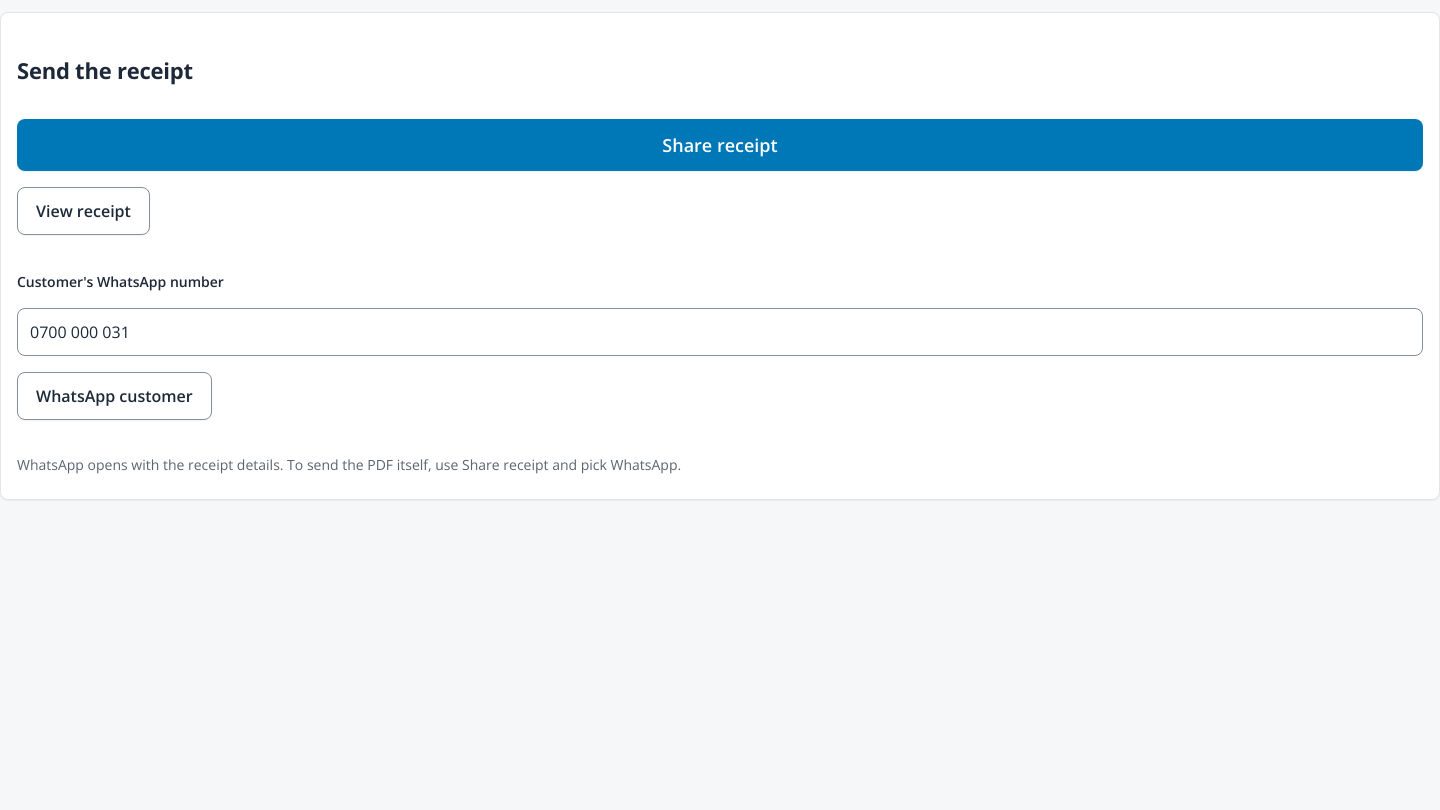
Test case: Share receipt › offers the PDF when the printed receipt request fails
Click the button "View receipt" at (83, 211), box [17, 187, 150, 235]
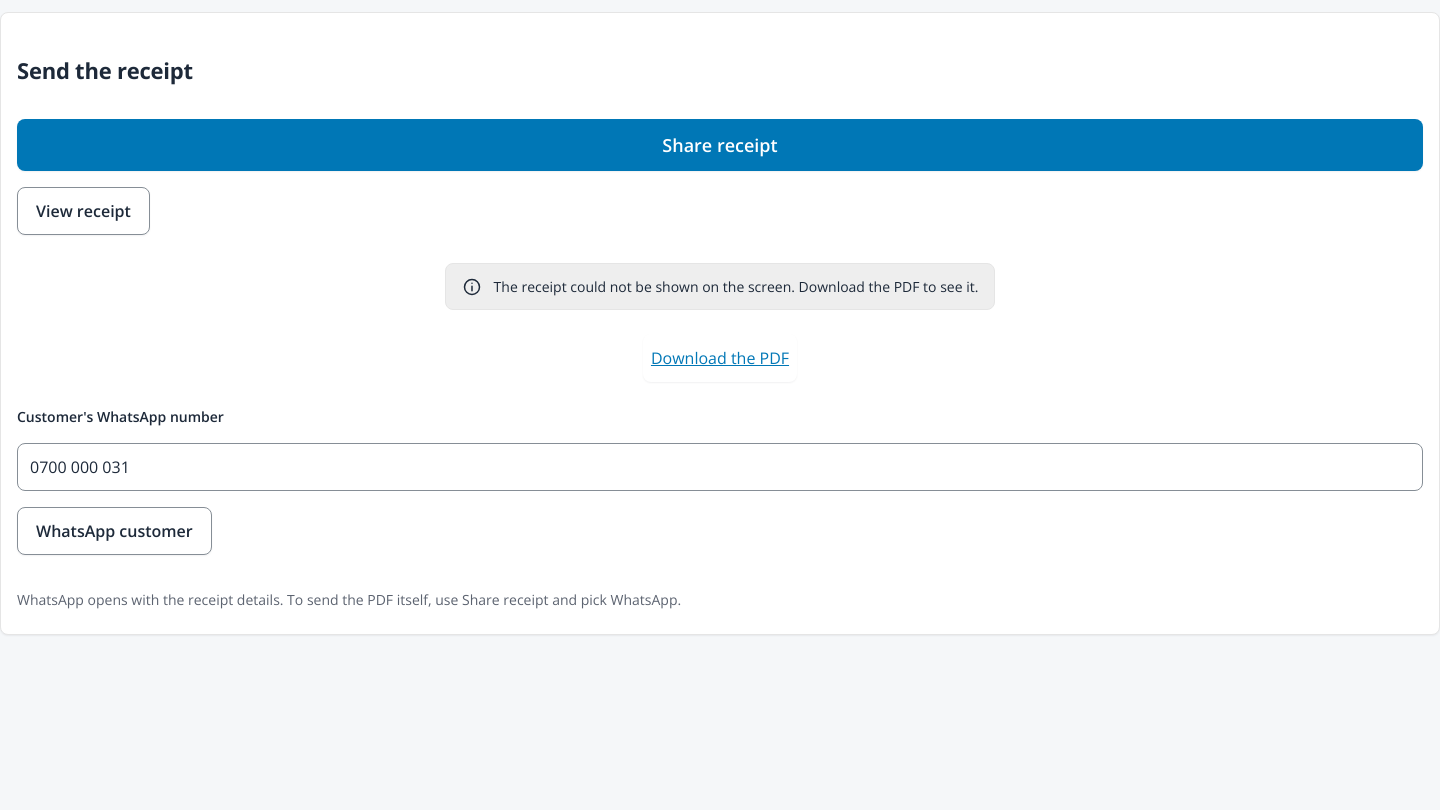
Result: the text "The receipt could not be shown on the screen. Download the PDF to see it." is shown at [445, 263, 995, 310]
Result: the button "Download the PDF" is shown at [643, 334, 797, 382]
